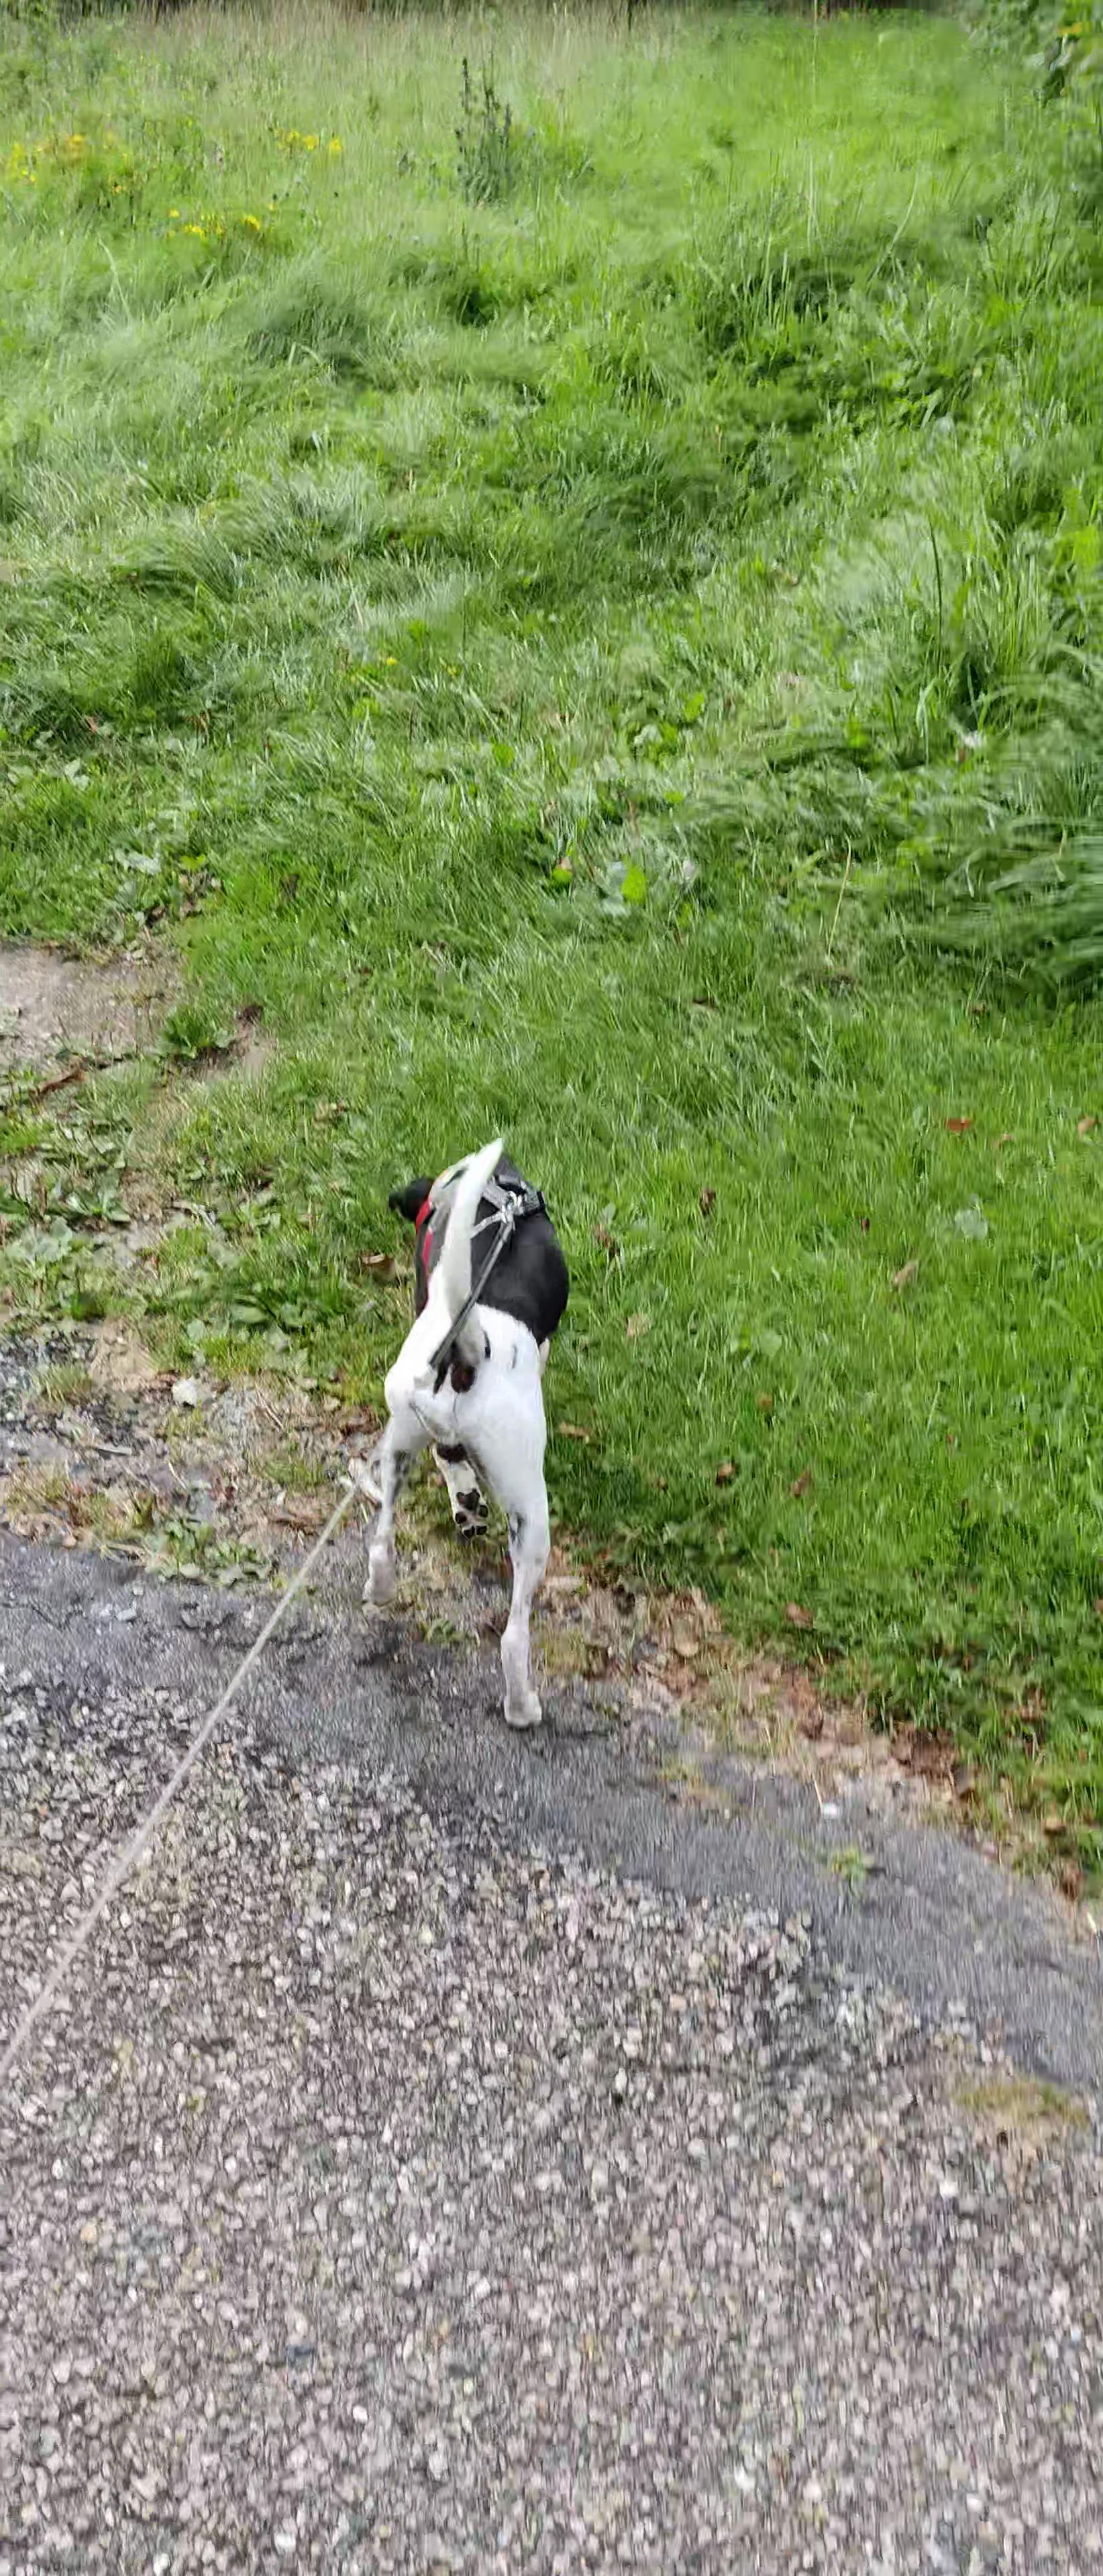Dog: (350, 1127, 580, 1735)
